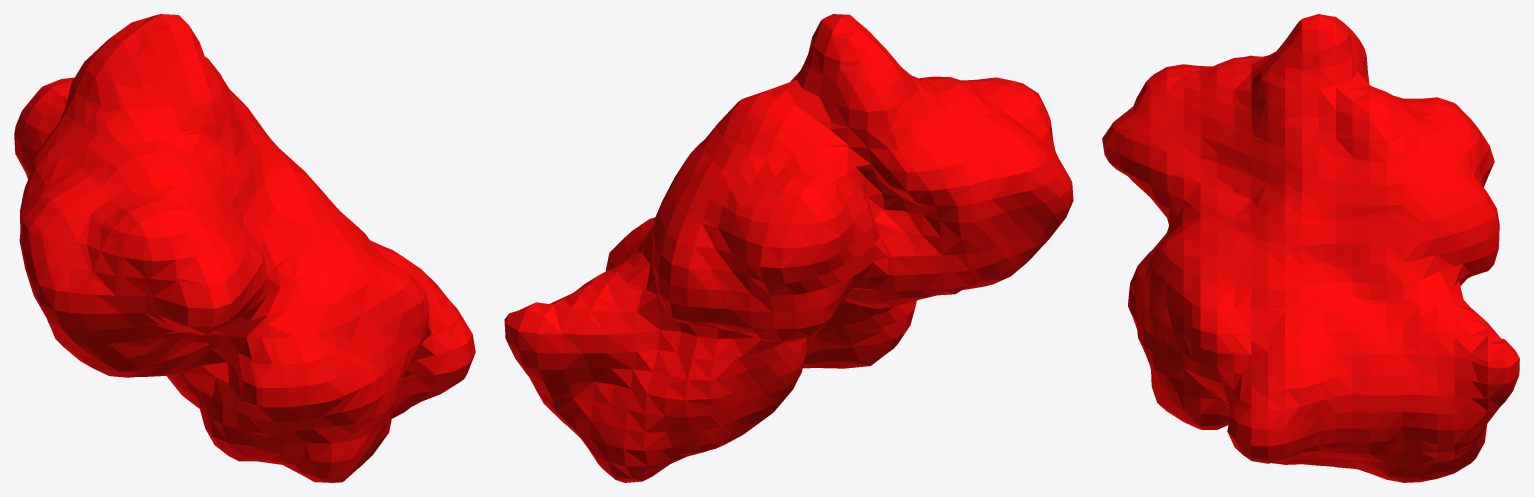
File: yhdE_coarse.dae
3 renders of one model, left to right at view 1: azimuth 30°, elevation 25°; view 2: azimuth 150°, elevation 25°; view 3: azimuth 270°, elevation 25°, orthographic. The views are drawn at different scales.
Parts seen in each view (by area): view 1: yhdE; view 2: yhdE; view 3: yhdE.
Part boxes in pixels (x1,y1,x2,y2): yhdE: (14,14,475,482); yhdE: (504,14,1073,482); yhdE: (1102,14,1519,482).
Bounding box in the file's own units: 67 × 66.25 × 62.6.
